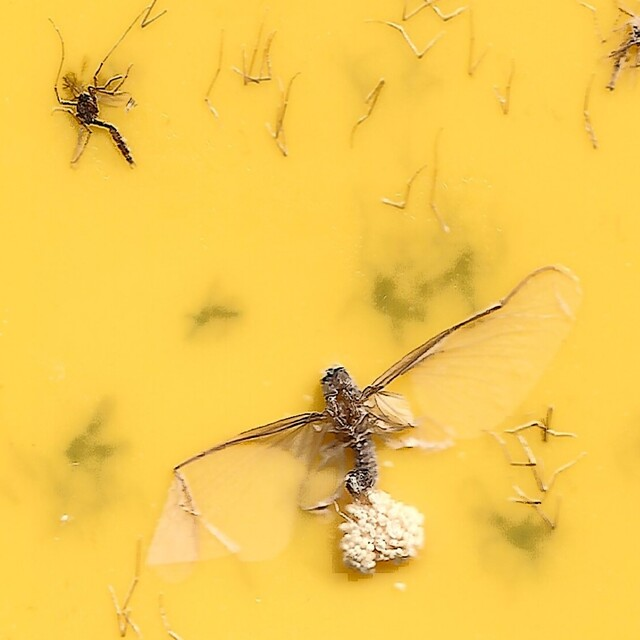Ephemeroptera: (152, 266, 582, 570)
Nematocera: (58, 70, 138, 173)
